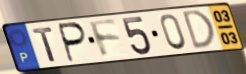0: (159, 13, 187, 52)
5: (119, 15, 154, 56)
D: (181, 9, 218, 52)
F: (87, 18, 124, 60)
P: (57, 21, 89, 64)
T: (31, 26, 59, 64)
